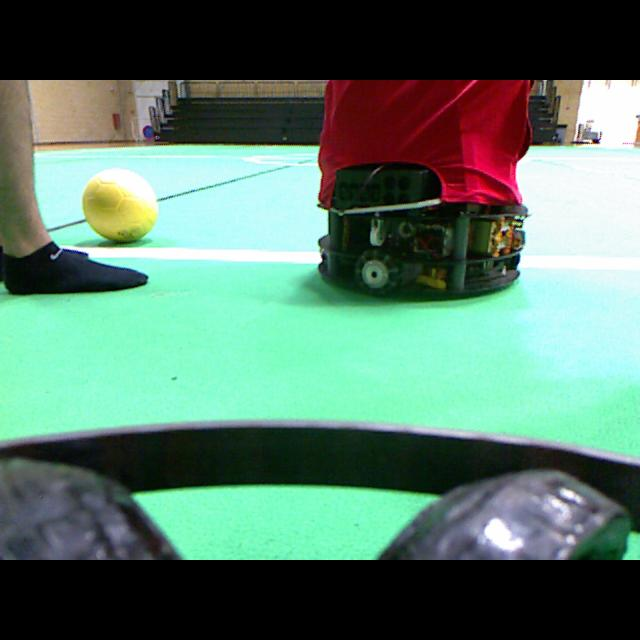ball: (82, 168, 157, 242)
